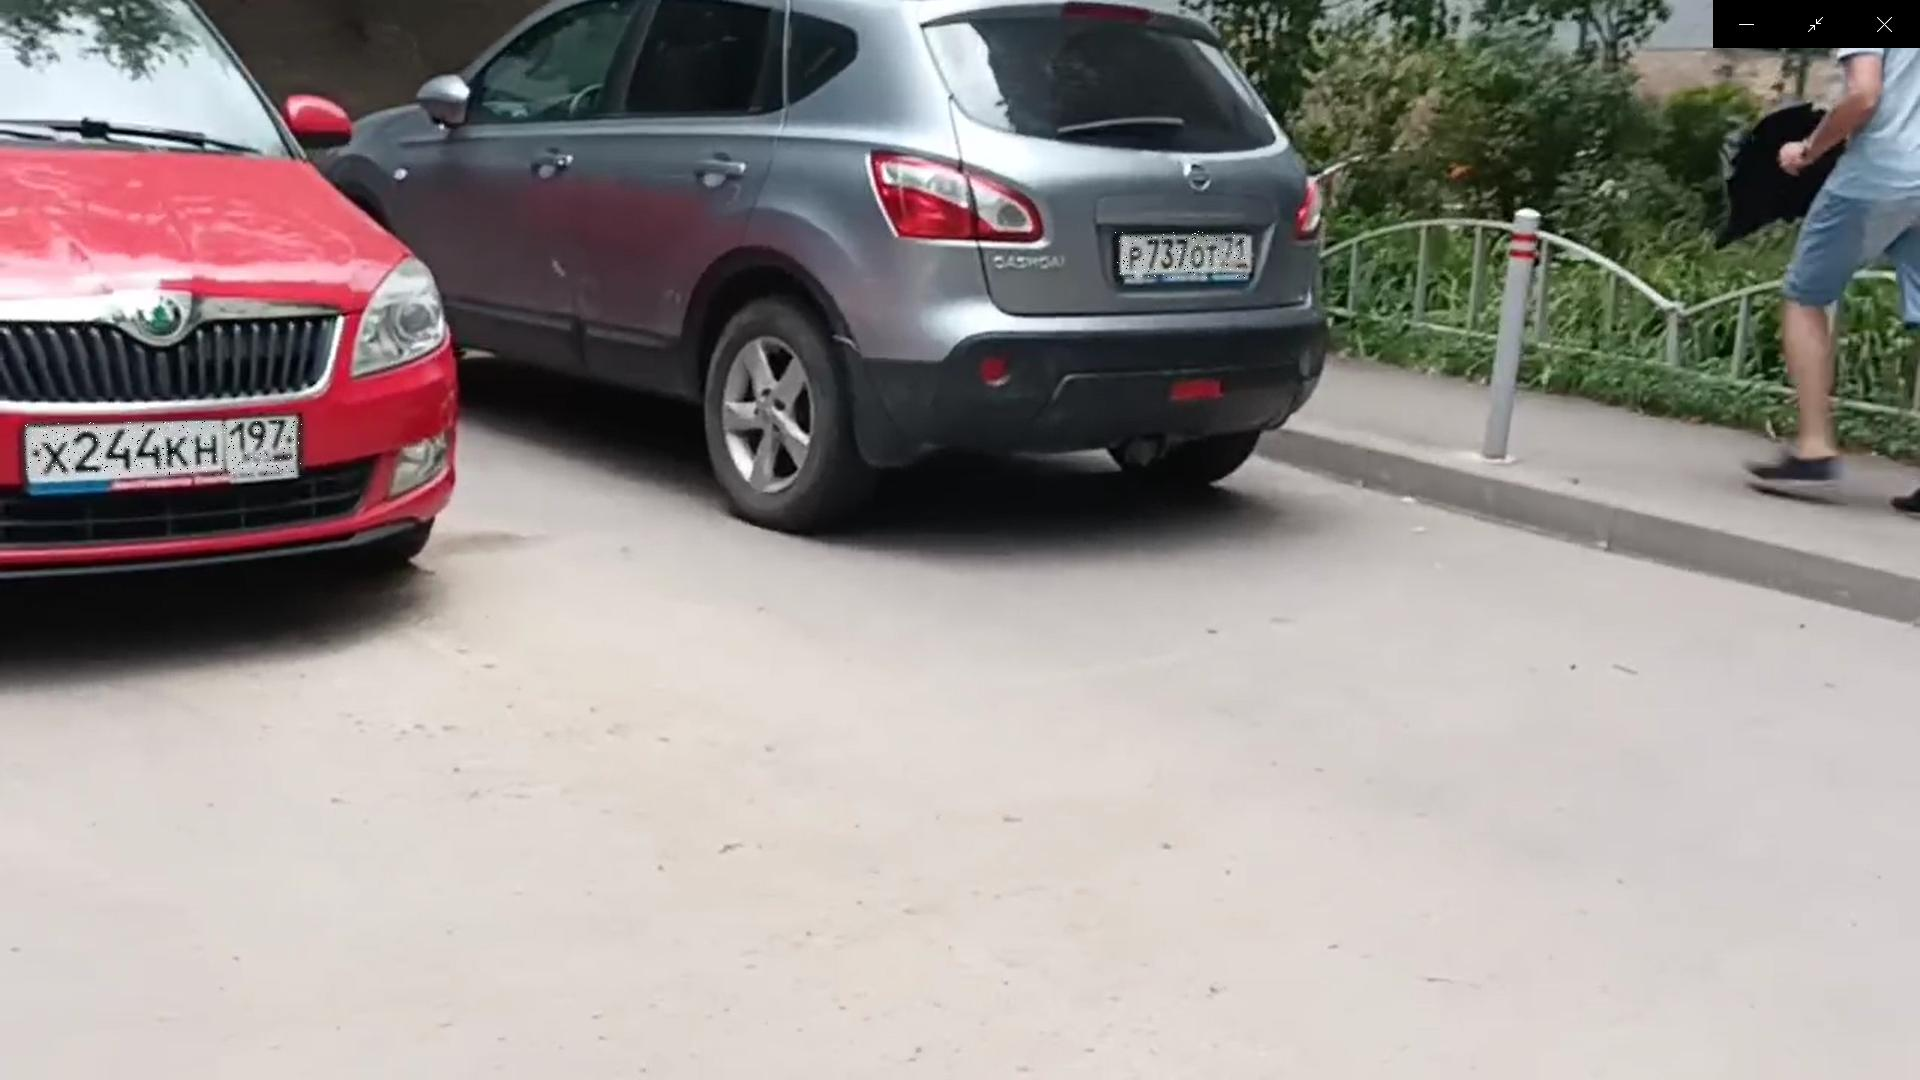plate: (26, 423, 304, 477), (1116, 232, 1248, 280)
